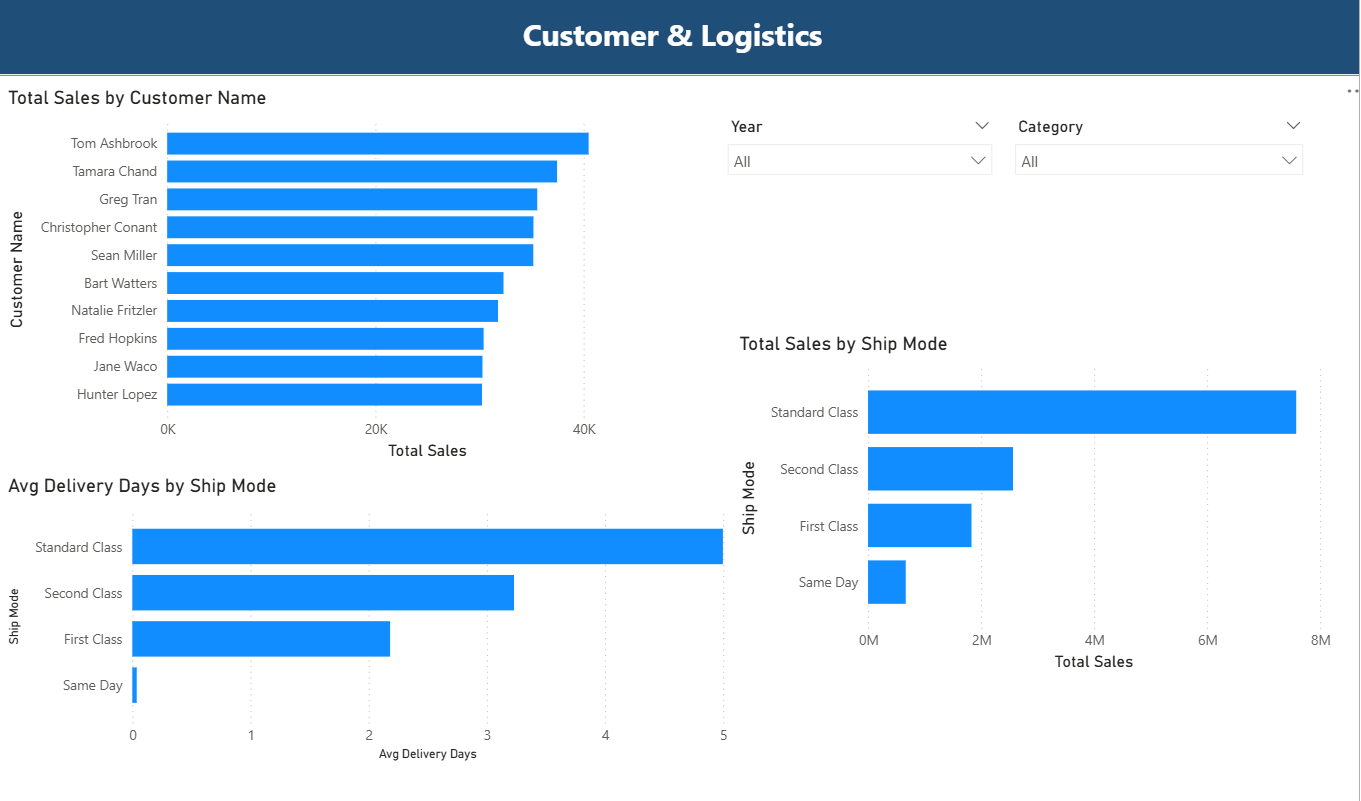

The page's visual inventory and layout, read from the dashboard file:
{"tool":"powerbi","page":{"name":"Customer & Logistics","canvas":[1280,720],"ordinal":3},"visuals":[{"type":"shape","box":[0,0,1224.4,68.9],"z":0},{"type":"textbox","box":[463.3,8.9,480,50],"z":1000},{"type":"clusteredBarChart","title":"Total Sales by Customer Name","fields":{"Category":["superstore_cleaned.Customer Name"],"Y":["DateTable.Total Sales"]},"box":[5.6,77.8,624.4,337.8],"z":2000},{"type":"clusteredBarChart","title":"Total Sales by Ship Mode","fields":{"Category":["superstore_cleaned.Ship Mode"],"Y":["DateTable.Total Sales"]},"box":[655.6,296.7,535.6,306.7],"z":3000},{"type":"clusteredBarChart","title":"Avg Delivery Days  by Ship Mode","fields":{"Category":["superstore_cleaned.Ship Mode"],"Y":["DateTable.Avg Delivery Days"]},"box":[5.6,423.3,650,260],"z":4000},{"type":"slicer","fields":{"Values":["DateTable.Year"]},"box":[640,101.1,255.6,92.2],"z":4001},{"type":"slicer","fields":{"Values":["superstore_cleaned.Category"]},"box":[895.6,101.1,276.7,92.2],"z":4002}]}

Visuals, with their boxes on the page's 1280x720 design canvas (x1, y1, x2, y2). These are canvas units, not pixel positions in the 1361x801 screenshot, which may show the page scaled, cropped or inside an application window:
shape: BBox(0, 0, 1224, 69)
textbox: BBox(463, 9, 943, 59)
"Total Sales by Customer Name" clusteredBarChart: BBox(6, 78, 630, 416)
"Total Sales by Ship Mode" clusteredBarChart: BBox(656, 297, 1191, 603)
"Avg Delivery Days  by Ship Mode" clusteredBarChart: BBox(6, 423, 656, 683)
slicer - DateTable.Year: BBox(640, 101, 896, 193)
slicer - superstore_cleaned.Category: BBox(896, 101, 1172, 193)
